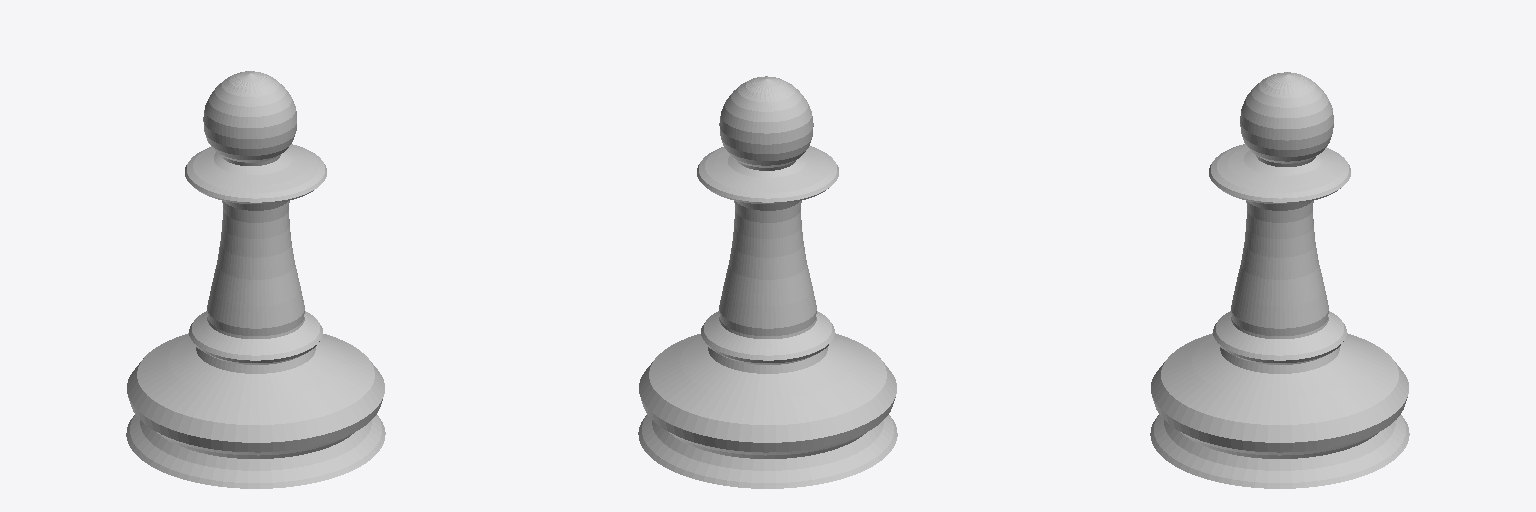
File: white-pawn.obj
3 views of the same model, side by side, from view 1: azimuth 30°, elevation 25°; view 2: azimuth 150°, elevation 25°; view 3: azimuth 270°, elevation 25° (orthographic).
Visible parts, largest first — view 1: Pawn.009_Circle.018; view 2: Pawn.009_Circle.018; view 3: Pawn.009_Circle.018.
Part boxes in pixels (x1,y1,x2,y2): Pawn.009_Circle.018: (126,71,385,488); Pawn.009_Circle.018: (638,76,897,488); Pawn.009_Circle.018: (1150,72,1409,488).
Bounding box in the file's own units: 1.35 × 2.07 × 1.35.